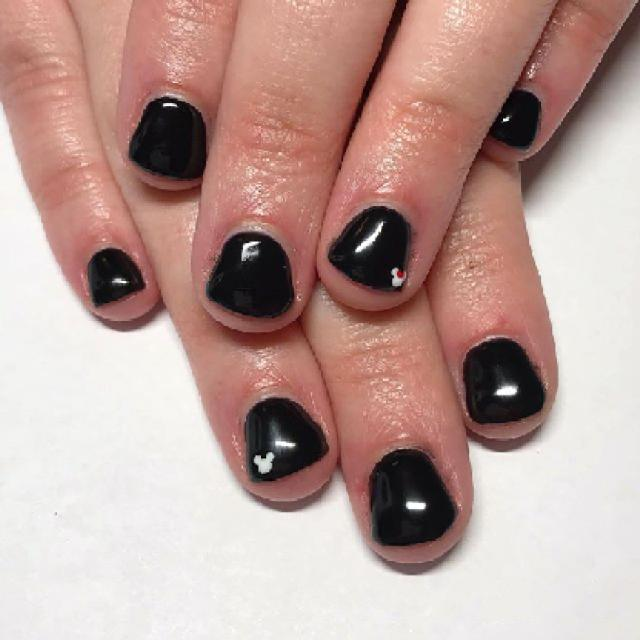Nail: (370, 449, 456, 546), (208, 232, 295, 319), (462, 339, 545, 423), (245, 399, 329, 481), (329, 206, 410, 289), (130, 98, 208, 179), (89, 249, 144, 306), (489, 90, 540, 148)
